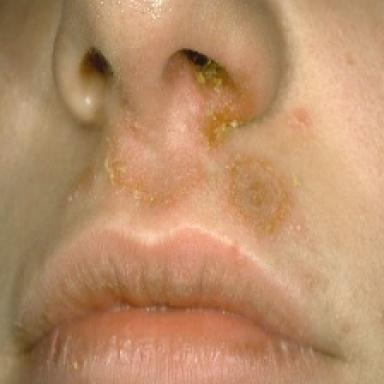Impetigo: (104, 138, 208, 209), (229, 151, 302, 233), (193, 62, 245, 154)
